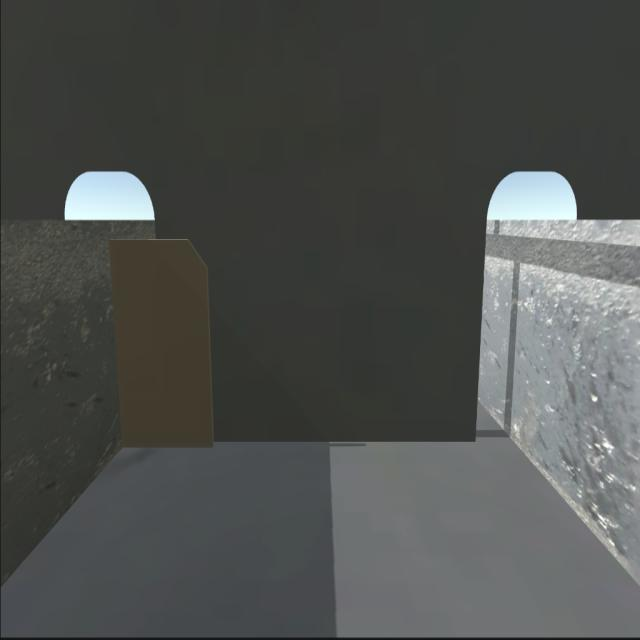fillet_yong_jeop_jang: (120, 431, 482, 455)
longi_yong_jeop_jang: (106, 240, 127, 451)
plate_CP03: (110, 238, 216, 446)
